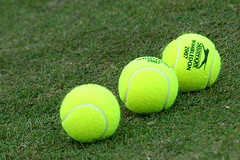tennis ball: (58, 81, 122, 145), (118, 54, 178, 115), (161, 33, 221, 91)
